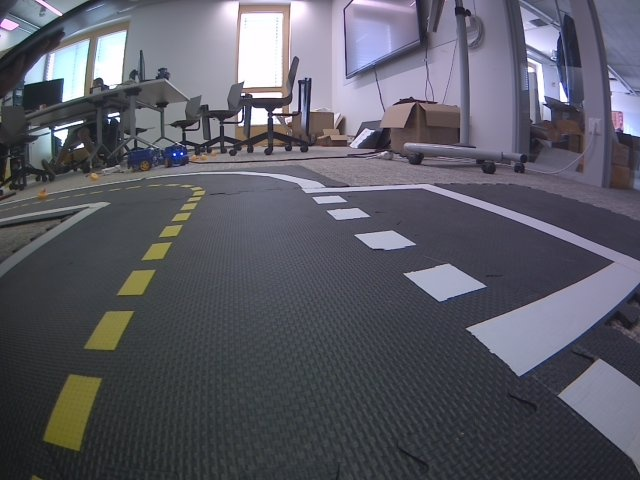Bot: (126, 148, 153, 173), (163, 146, 187, 167), (155, 68, 171, 82)
freeSlot: (303, 182, 640, 377)
